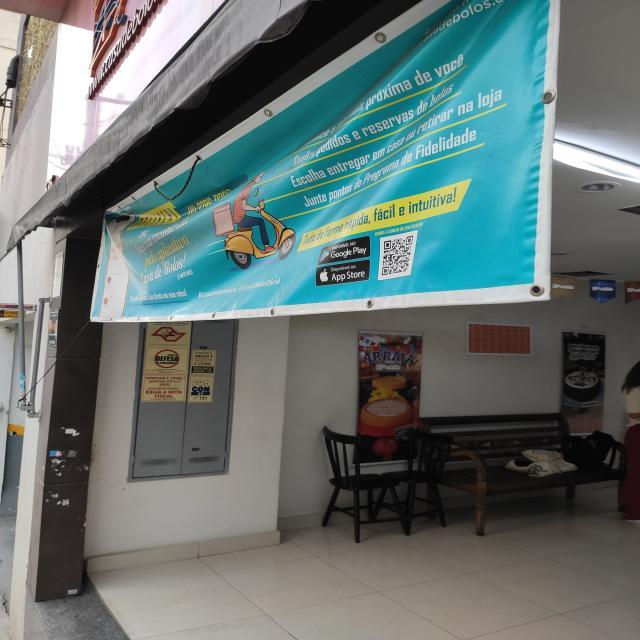qr-code: (382, 236, 413, 276)
